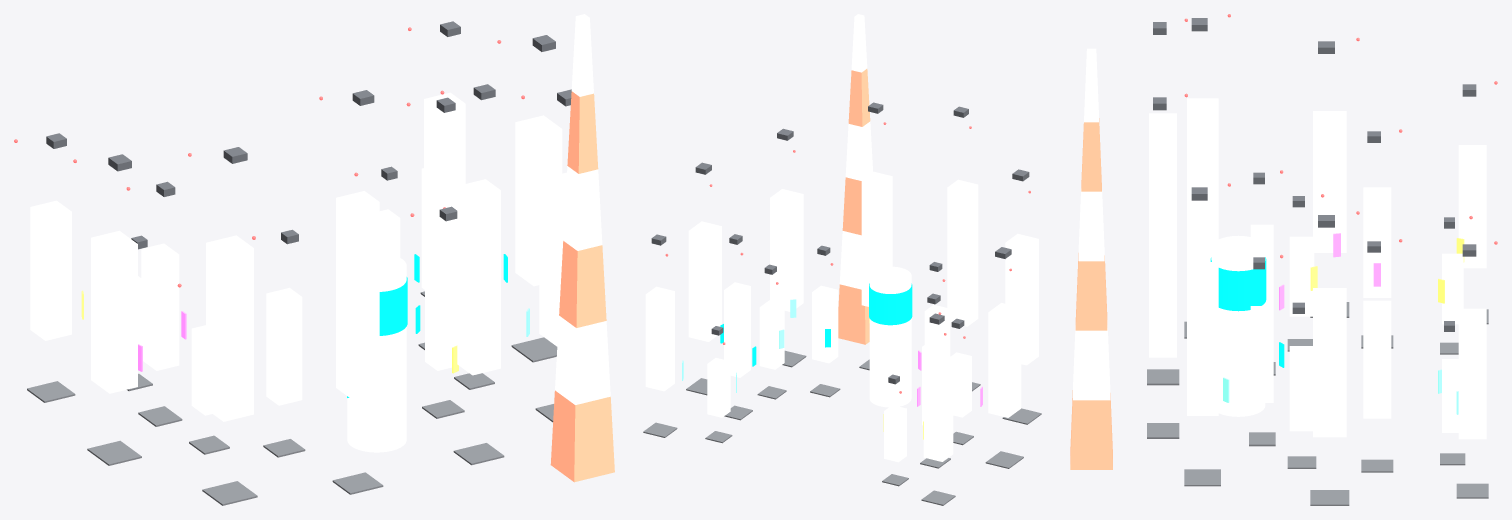
File: tokyo_city_stage.glb
3 renders of one model, left to right at view 1: azimuth 30°, elevation 25°; view 2: azimuth 150°, elevation 25°; view 3: azimuth 270°, elevation 25°, orthographic. The views are drawn at different scales.
Parts seen in each view (by area): view 1: Cube.037, Cube.033, Cube.041, Cube.049, Cylinder, Cube.057, Cube.053, Cone, Cube.017, Cube.001, Cone.001, Cube.045 (+15 smaller); view 2: Cylinder, Cube.037, Cube.053, Cube.045, Cube.049, Cube.041, Cube.033, Cube.061, Cube.057, Cube.021, Cube.005, Cube.013 (+12 smaller); view 3: Cube.053, Cylinder, Cube.045, Cube.033, Cube.041, Cube.049, Cube.061, Cube.021, Cube.057, Cone, Cube.017, Cone.001 (+17 smaller).
Part boxes in pixels (<box>): Cube.037: <box>336,191,379,398</box>; Cube.033: <box>206,235,253,421</box>; Cube.041: <box>457,179,500,375</box>; Cube.049: <box>91,230,137,393</box>; Cylinder: <box>347,253,406,452</box>; Cube.057: <box>30,200,71,340</box>; Cube.053: <box>515,115,562,286</box>; Cone: <box>550,390,614,482</box>; Cube.017: <box>141,243,179,370</box>; Cube.001: <box>266,287,302,405</box>; Cone.001: <box>555,315,610,404</box>; Cube.045: <box>539,172,566,346</box>; Cylinder: <box>869,266,911,407</box>; Cube.037: <box>947,179,978,326</box>; Cube.053: <box>688,221,721,341</box>; Cube.045: <box>770,189,803,311</box>; Cube.049: <box>988,303,1021,417</box>; Cube.041: <box>861,171,892,306</box>; Cube.033: <box>1005,233,1038,365</box>; Cube.061: <box>645,286,674,391</box>; Cube.057: <box>923,363,953,461</box>; Cube.021: <box>724,282,750,377</box>; Cube.005: <box>812,285,838,363</box>; Cube.013: <box>759,300,784,369</box>; Cube.053: <box>1313,288,1346,437</box>; Cylinder: <box>1211,235,1265,416</box>; Cube.045: <box>1187,262,1218,415</box>; Cube.033: <box>1187,98,1218,261</box>; Cube.041: <box>1149,183,1176,357</box>; Cube.049: <box>1313,111,1346,252</box>; Cube.061: <box>1458,308,1486,439</box>; Cube.021: <box>1363,300,1391,418</box>; Cube.057: <box>1458,145,1486,268</box>; Cone: <box>1070,390,1112,469</box>; Cube.017: <box>1363,187,1391,297</box>; Cone.001: <box>1073,320,1110,400</box>.
Bounding box in the file's own units: 61.54 × 57 × 53.85.
